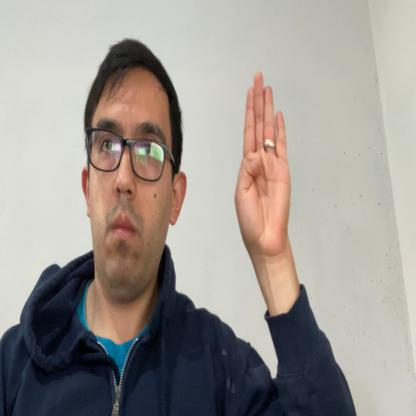B: (234, 70, 292, 256)
